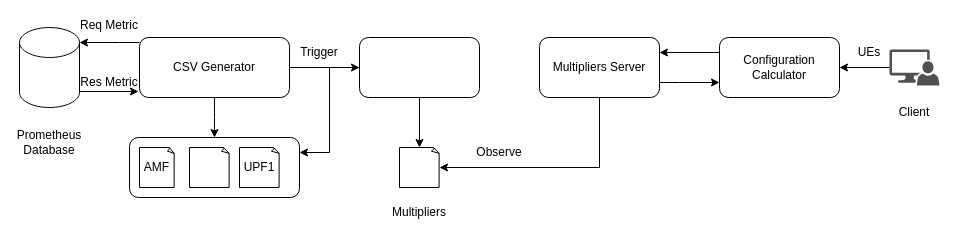
This 962x244 diagram has some shape labels left out. The shapes that lost their labels are listed below. From the top down, each one's box as (x1, y1, x2, y2) in pixels, then its label:
(358, 36, 480, 98): Multipliers Generator
(188, 146, 230, 188): SMF
